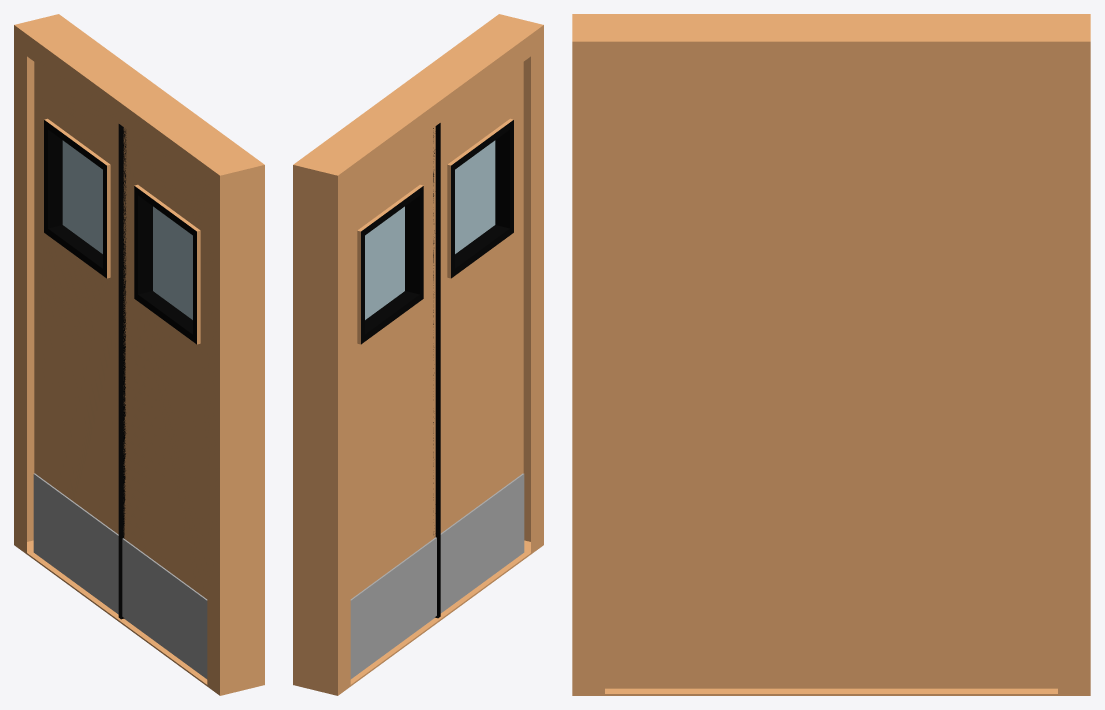
The model's file is doorsushi.fbx.
3 views of the same model, side by side, from view 1: azimuth 30°, elevation 25°; view 2: azimuth 150°, elevation 25°; view 3: azimuth 270°, elevation 25° (orthographic). The views are drawn at different scales.
Visible parts, largest first — view 1: Cube, Cube.005, Cube.004, Cube.002, Cube.001, Cube.003; view 2: Cube, Cube.005, Cube.004, Cube.002, Cube.001, Cube.003; view 3: Cube, Cube.005.
Boxes of the visible parts, box(x1,y1,x2,y2) form: Cube: box(34, 62, 207, 598); Cube.005: box(14, 14, 264, 695); Cube.004: box(33, 473, 207, 679); Cube.002: box(44, 120, 196, 344); Cube.001: box(62, 140, 192, 319); Cube.003: box(118, 124, 126, 619); Cube: box(350, 62, 523, 598); Cube.005: box(293, 14, 543, 695); Cube.004: box(350, 473, 524, 679); Cube.002: box(361, 120, 513, 344); Cube.001: box(365, 140, 495, 319); Cube.003: box(433, 123, 440, 618); Cube: box(605, 69, 1057, 688); Cube.005: box(572, 14, 1090, 695).
Bounding box in the file's own units: 119 × 1322 × 949.
